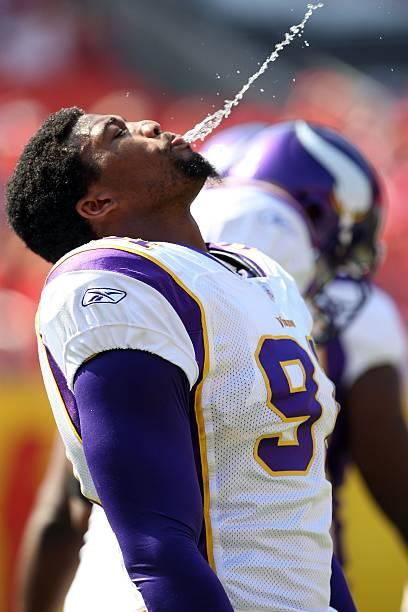Spitting: (10, 36, 283, 256)
